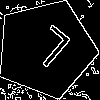L: (21, 24, 74, 77)
